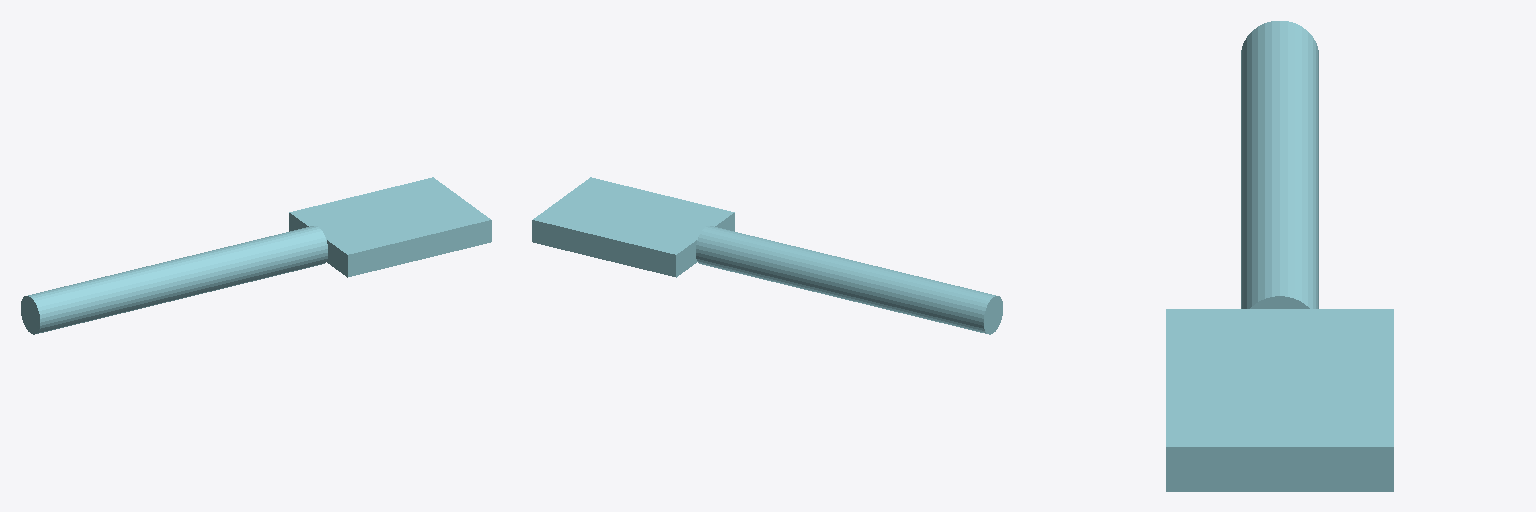
robot.urdf — primitive_large_spatula:
<?xml version="1.0"?>
<robot name="primitive_large_spatula">

  <link name="primitive_large_spatula">
    <!-- Handle -->
    <visual>
      <origin xyz="0 0 0" rpy="0 1.5707963267948966 0"/>
      <geometry>
        <cylinder length="0.2" radius="0.012"/>
      </geometry>
      <material name="material">
        <color rgba="0.639 0.847 0.882 1.0"/>
      </material>
    </visual>
    <collision>
      <origin xyz="0 0 0" rpy="0 1.5707963267948966 0"/>
      <geometry>
        <cylinder length="0.2" radius="0.012"/>
      </geometry>
    </collision>

    <!-- Head -->
    <visual>
      <origin xyz="0.15000000000000002 0 0" rpy="0 0 0"/>
      <geometry>
        <box size="0.1 0.07 0.015"/>
      </geometry>
      <material name="material">
        <color rgba="0.639 0.847 0.882 1.0"/>
      </material>
    </visual>
    <collision>
      <origin xyz="0.15000000000000002 0 0" rpy="0 0 0"/>
      <geometry>
        <box size="0.1 0.07 0.015"/>
      </geometry>
    </collision>

    <inertial>
      <density value="400.0"/>
    </inertial>
  </link>

</robot>

--- What the picture shows (computed from the rendered views, not written in the file) ---
The picture shows the robot from 3 angles, left to right: view 1: azimuth 30°, elevation 25°; view 2: azimuth 150°, elevation 25°; view 3: azimuth 270°, elevation 25°; orthographic projection.
Robot: primitive_large_spatula — 1 links, 0 joints (none); root link primitive_large_spatula; default pose: every joint at zero.
Links seen in each view (by area): view 1: primitive_large_spatula; view 2: primitive_large_spatula; view 3: primitive_large_spatula.
Boxes of the visible links, x1,y1,x2,y2 form: primitive_large_spatula: (21,177,491,334); primitive_large_spatula: (532,177,1002,334); primitive_large_spatula: (1166,21,1393,491).
Size in the robot's own frame: 0.3 by 0.07 by 0.024 metres.
Geometry: primitives only (box / cylinder / sphere), no mesh files.
